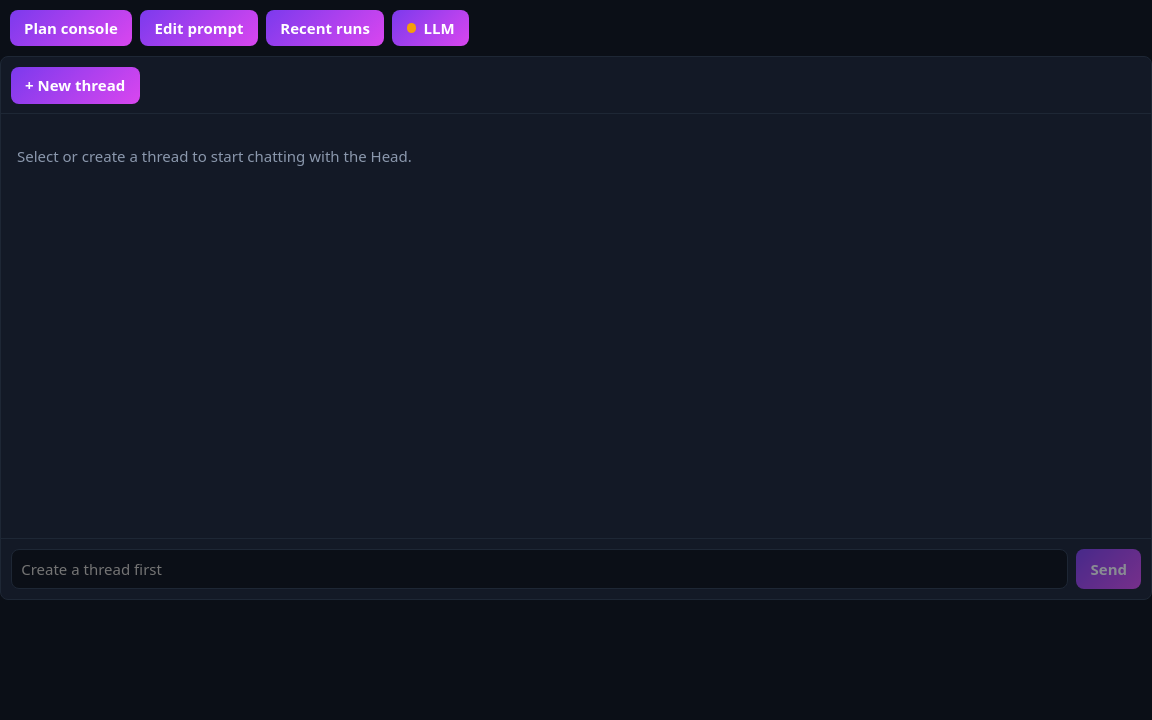
Test: HeadHQ › renders a completed plan's output_json inside the plan console
Click the button "Plan console". click: (71, 28)
box: [10,10,132,46]
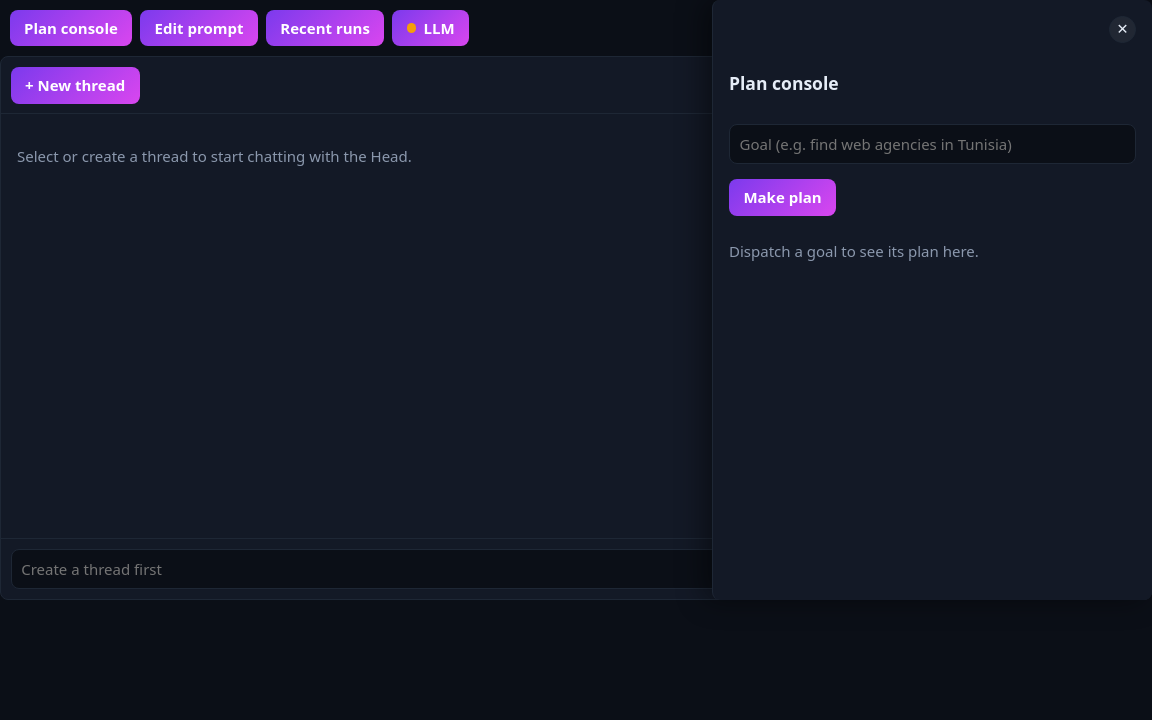
Type "find agencies" into the field with placeholder "Goal (e.g. find web agencies in Tunisia)". click: (932, 144)
box: [729,124,1136,164]
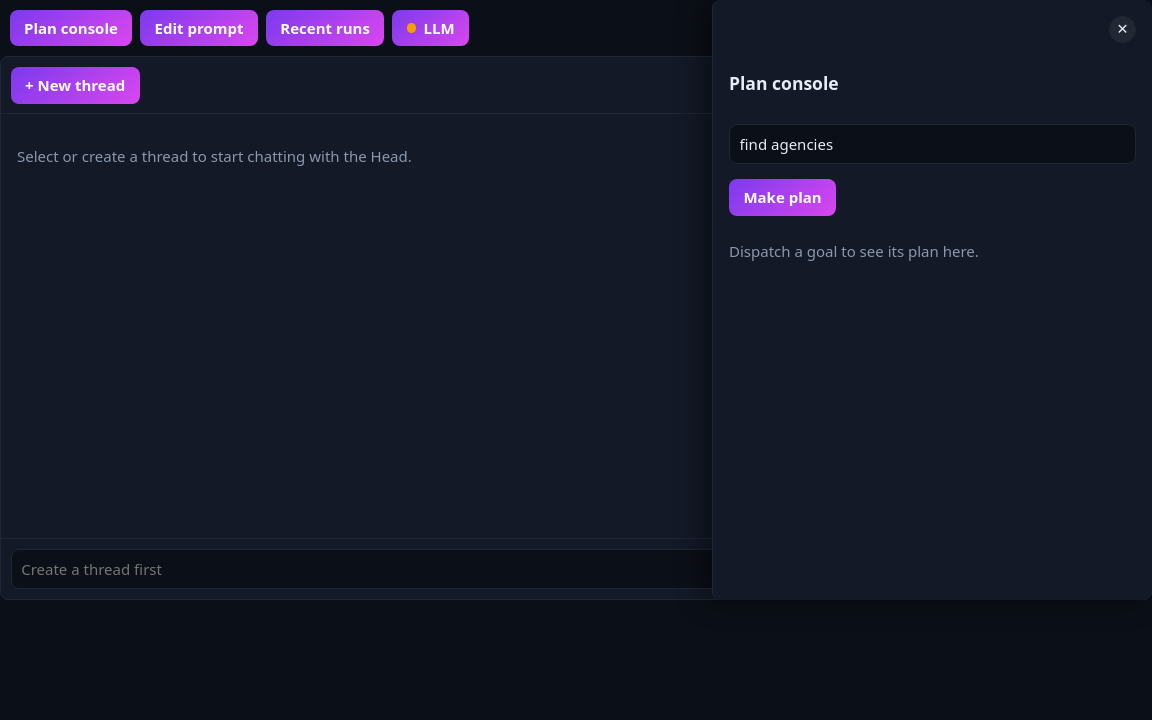
Click the button "Make plan". click: (782, 197)
box: [729,179,836,216]
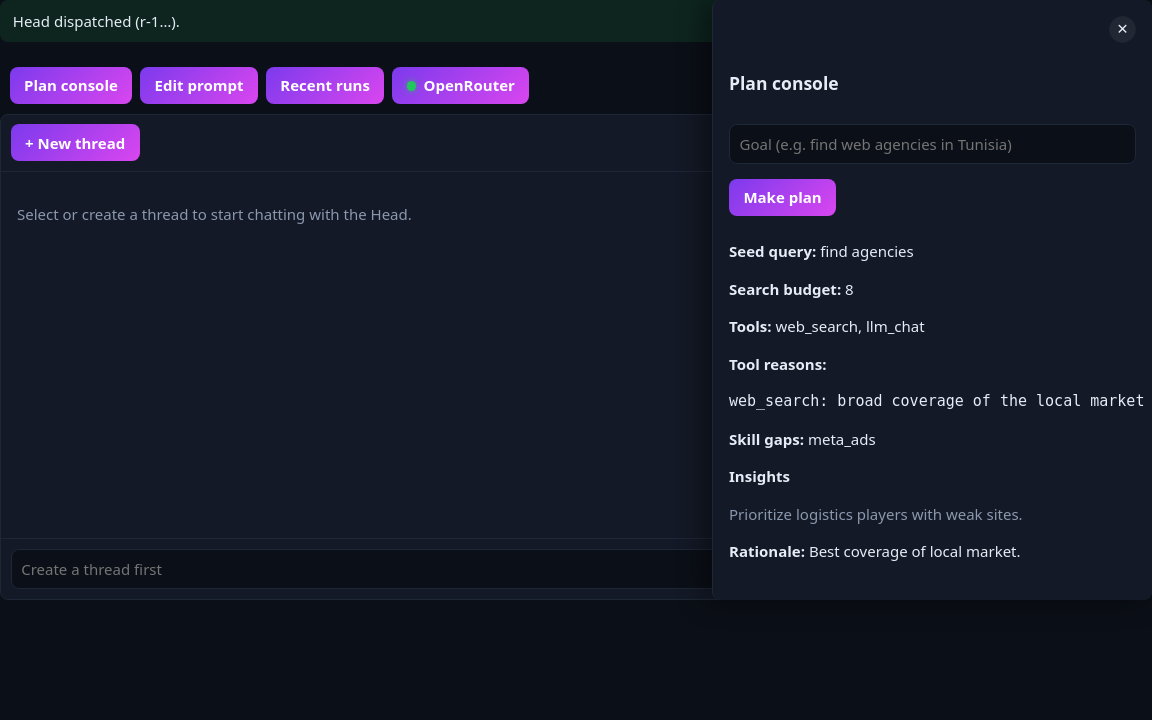
Expected: the text "Best coverage of local market." is shown, [809,541,1021,561]
Expected: the text "meta_ads" is shown, [808,429,876,449]
Expected: the text "Prioritize logistics players with weak sites." is shown, [729,504,1023,524]
